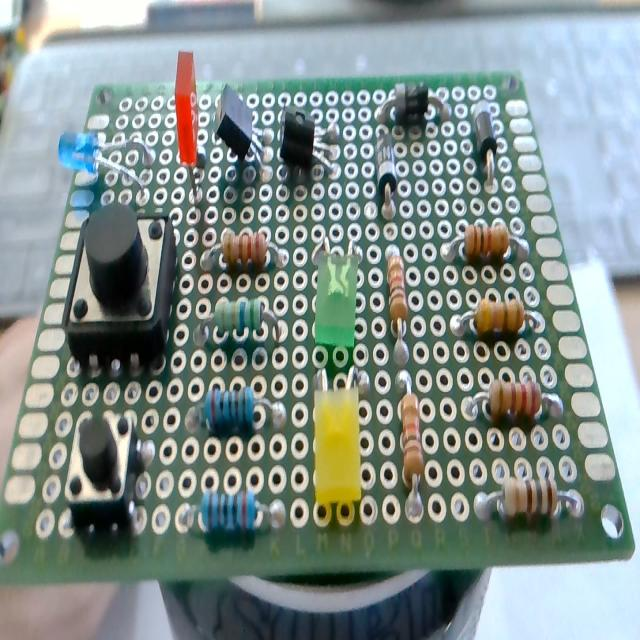diode: (463, 94, 499, 188), (385, 76, 449, 124), (371, 122, 401, 224)
led: (298, 358, 374, 516), (51, 115, 156, 201), (166, 48, 214, 203), (308, 222, 366, 346)
resistor: (182, 477, 286, 546), (478, 465, 580, 527), (452, 280, 548, 341), (200, 288, 286, 356), (191, 374, 279, 439), (461, 377, 559, 435), (196, 232, 282, 286), (440, 215, 532, 265), (395, 367, 425, 511), (385, 244, 414, 352)
switch: (64, 199, 176, 372), (62, 404, 145, 542)
transistor: (274, 84, 346, 194), (214, 74, 276, 191)
